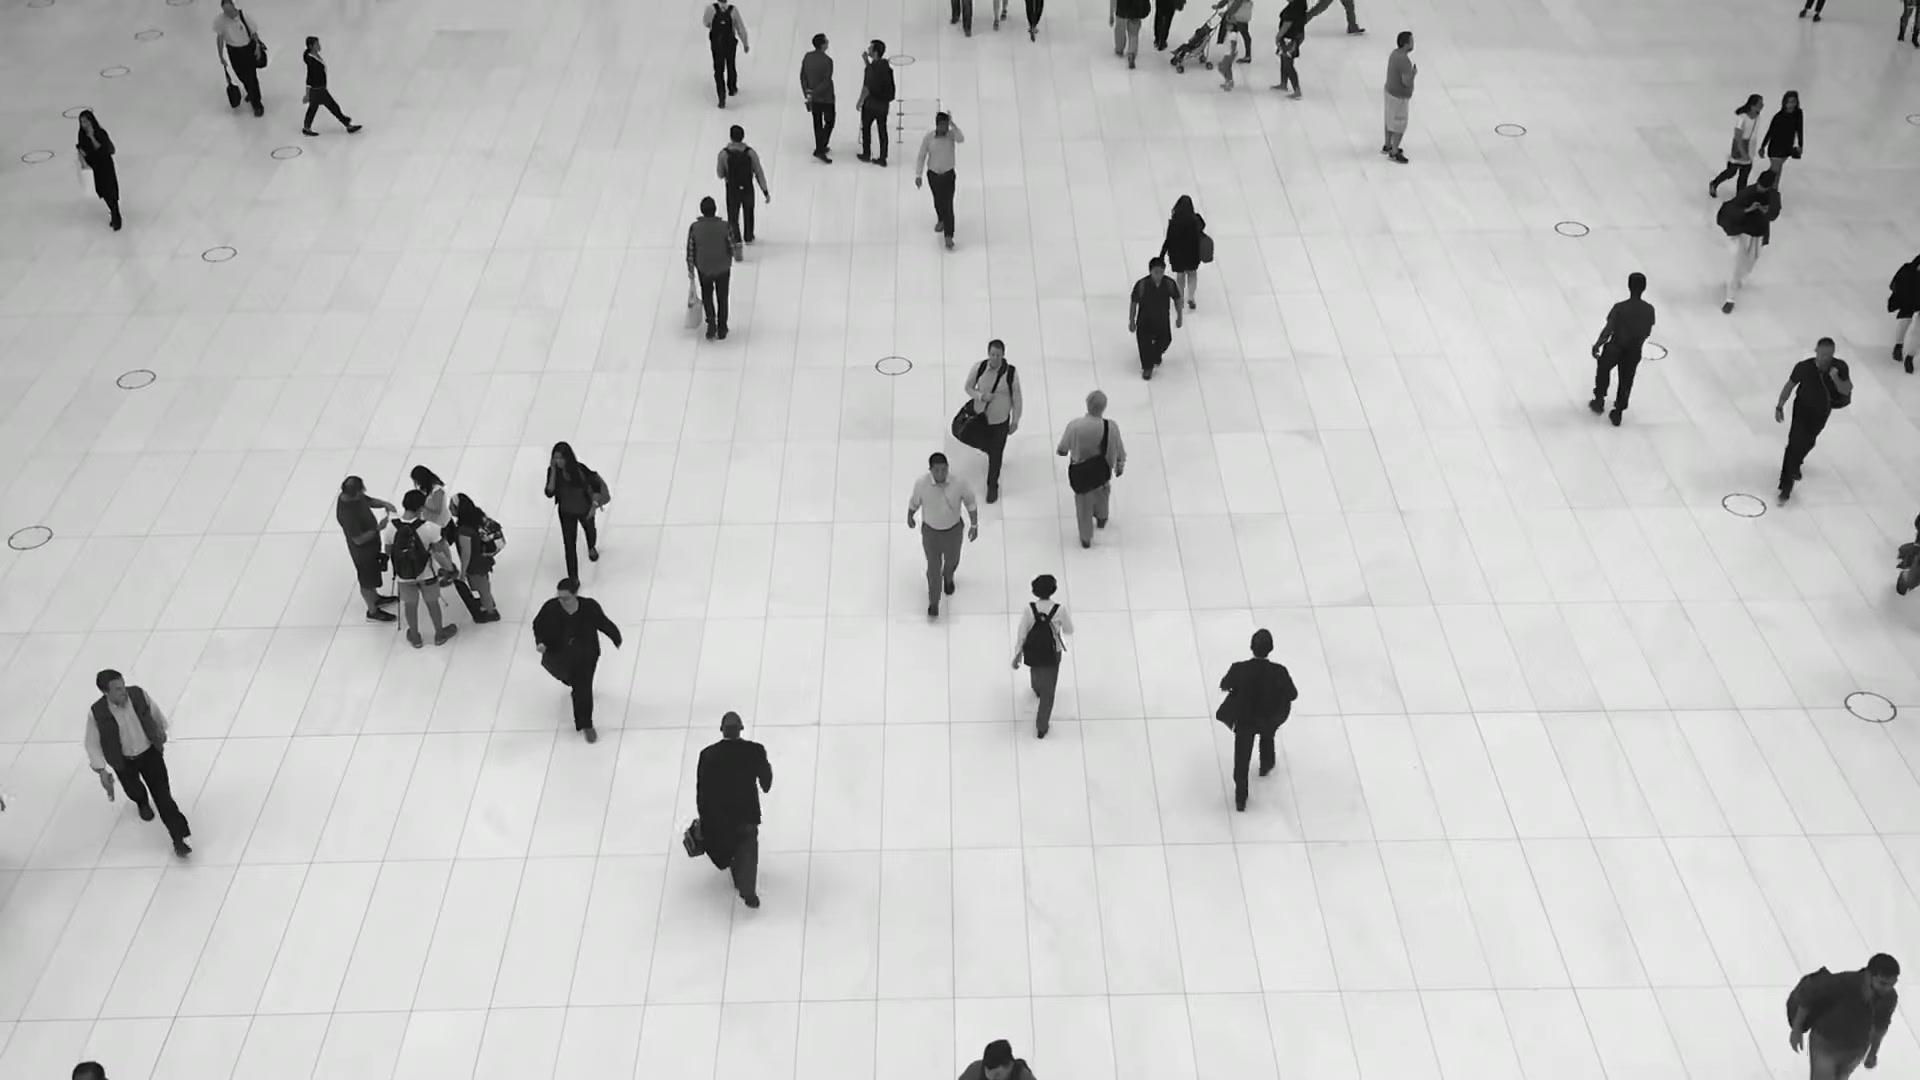person: (84, 668, 189, 860), (1215, 629, 1298, 818), (694, 712, 774, 904), (532, 577, 621, 740), (1788, 950, 1900, 1076), (1774, 337, 1851, 502), (383, 489, 458, 651), (906, 453, 977, 617), (1057, 391, 1126, 552), (1586, 273, 1654, 430), (1010, 574, 1072, 744), (336, 474, 400, 629), (1716, 169, 1782, 311), (965, 338, 1022, 500), (544, 440, 610, 579), (683, 196, 738, 342), (448, 492, 502, 624), (914, 110, 964, 243), (211, 0, 268, 116), (297, 35, 361, 137), (715, 124, 767, 246), (1129, 256, 1182, 378), (409, 464, 459, 588), (1159, 195, 1214, 307), (76, 108, 127, 230), (1709, 92, 1764, 198), (1381, 29, 1419, 164), (856, 38, 895, 167), (701, 0, 748, 106), (799, 33, 836, 164), (1758, 90, 1803, 186), (1271, 0, 1307, 99), (1216, 19, 1239, 91)
